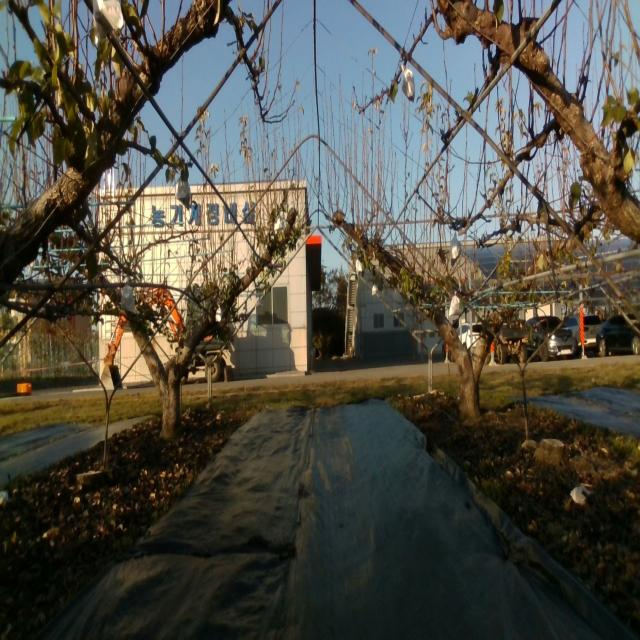pearbags: (402, 64, 417, 102), (175, 176, 191, 210), (120, 284, 136, 314), (448, 292, 464, 319), (450, 232, 462, 268)
